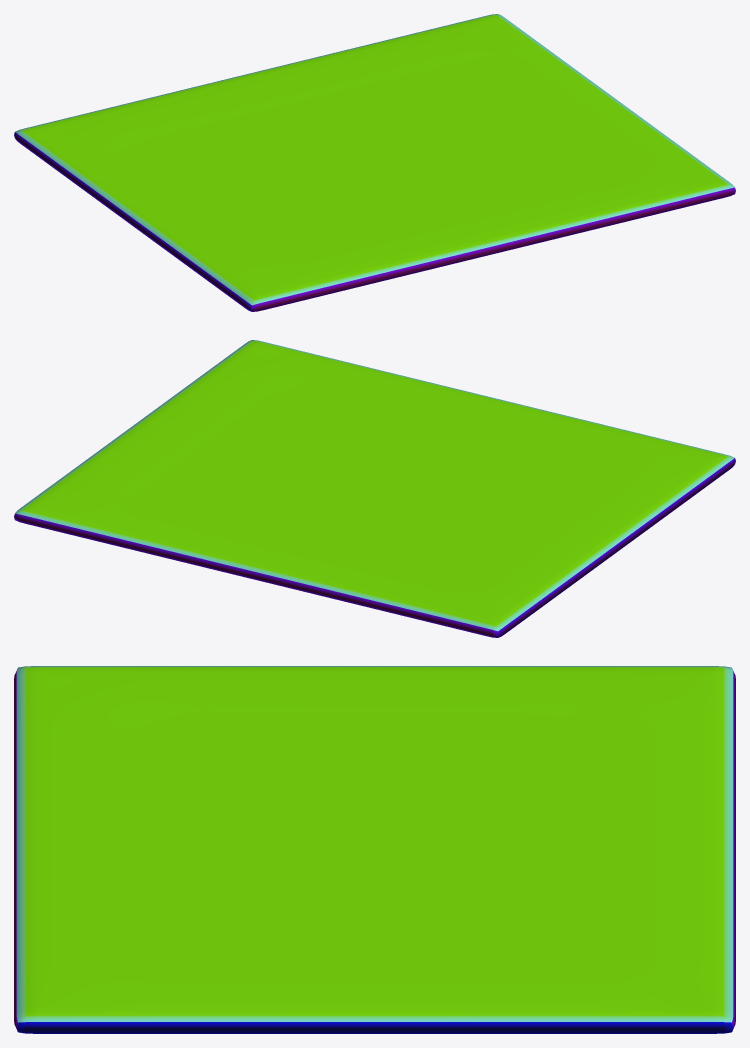
Rendered from pad.glb.
3 views of the same model, one above another, from view 1: azimuth 30°, elevation 25°; view 2: azimuth 150°, elevation 25°; view 3: azimuth 270°, elevation 25° (orthographic). The views are drawn at different scales.
Parts seen in each view (by area): view 1: pad; view 2: pad; view 3: pad.
Part boxes in pixels (bbox=[...]): pad: bbox=[14, 14, 735, 311]; pad: bbox=[14, 340, 735, 637]; pad: bbox=[14, 666, 735, 1033].
Size of the model in its own units: 5.39 by 0.1283 by 4.59.
